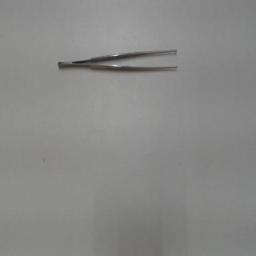Gillies Toothed Dissector: (47, 44, 183, 80)
